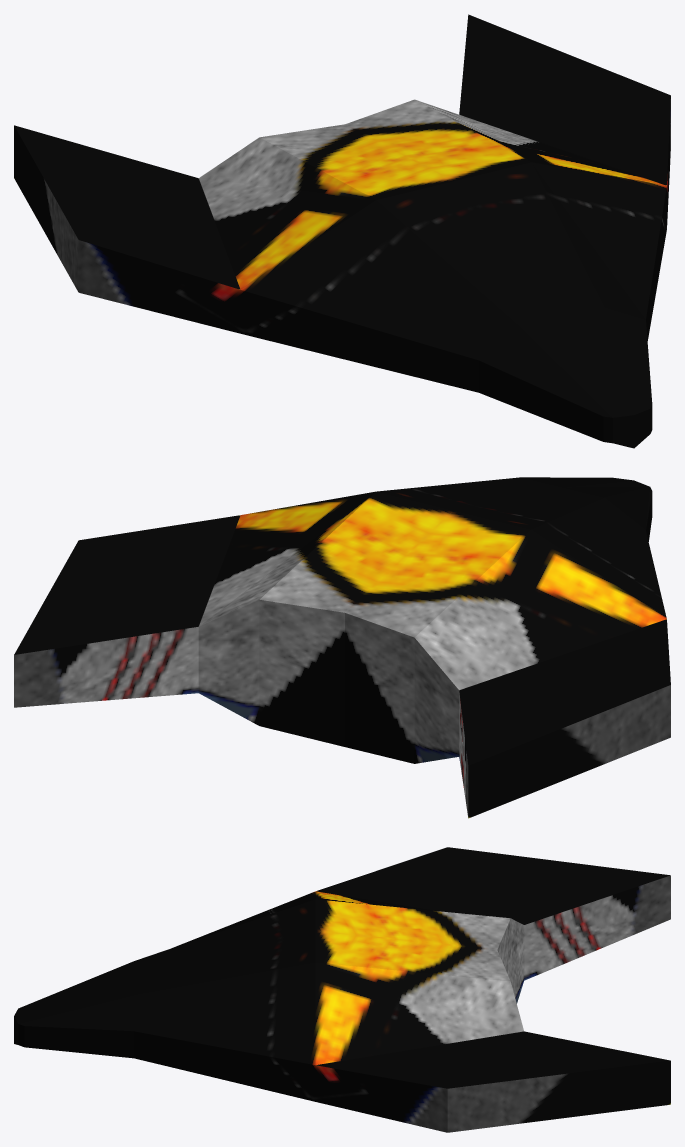
File: ship.obj
3 renders of one model, top to bottom at view 1: azimuth 30°, elevation 25°; view 2: azimuth 150°, elevation 25°; view 3: azimuth 270°, elevation 25°, orthographic. The views are drawn at different scales.
Visible parts, largest first — view 1: cube1; view 2: cube1; view 3: cube1.
Boxes of the visible parts, x1,y1,x2,y2 form: cube1: [14, 14, 670, 448]; cube1: [14, 477, 670, 818]; cube1: [14, 847, 670, 1132].
Bounding box in the file's own units: 1.3 × 0.3281 × 1.49.
1 material, 1 textured.
